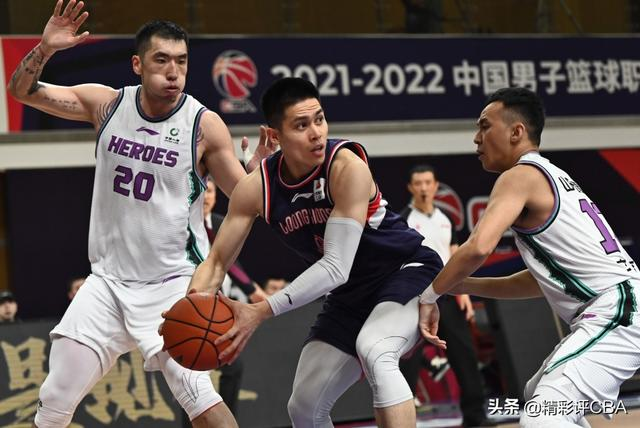ball: (162, 293, 242, 370), (213, 49, 258, 101)
